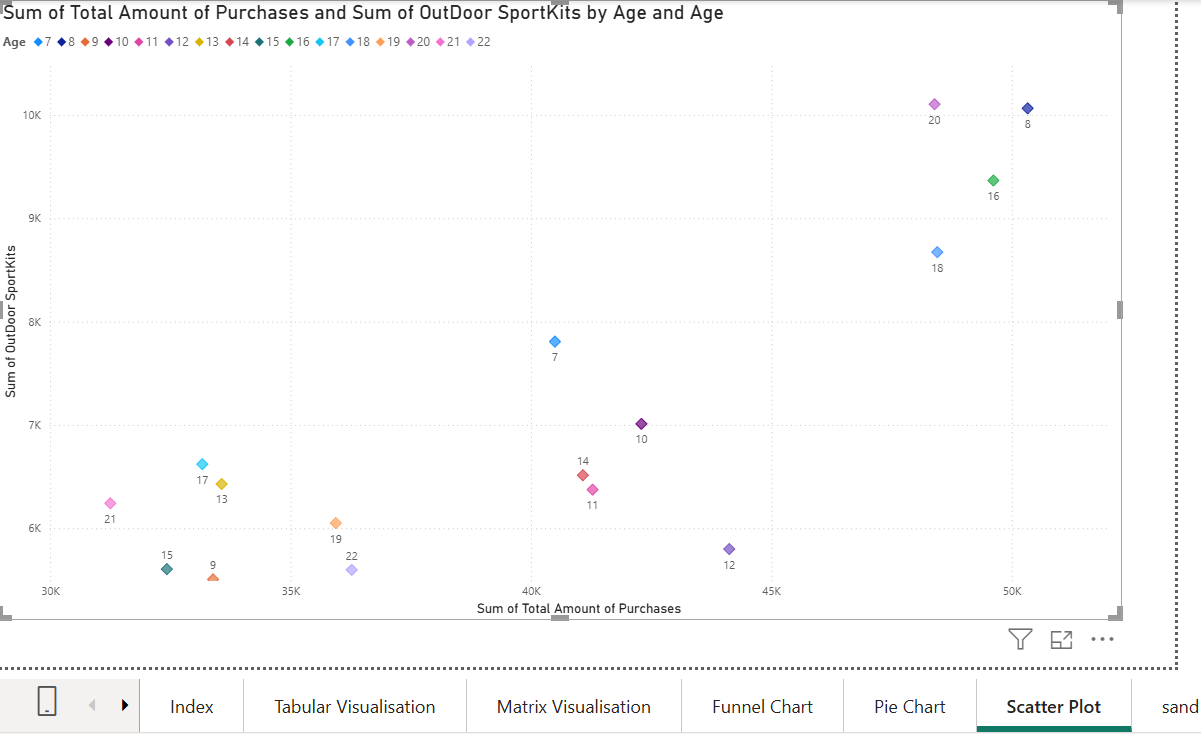

The dashboard page shown, as its layout file describes it:
{"tool":"powerbi","page":{"name":"Scatter Plot","canvas":[1280,720],"ordinal":5},"visuals":[{"type":"scatterChart","fields":{"Category":["Student Survey.Age"],"X":["Sum(Student Survey.Total Amount of Purchases)"],"Y":["Sum(Student Survey.OutDoor SportKits)"],"Series":["Student Survey.Age"]},"box":[9.7,0,1212.8,668.7],"z":0}]}

Visuals, with their boxes on the page's 1280x720 design canvas (x1, y1, x2, y2). These are canvas units, not pixel positions in the 1201x734 screenshot, which may show the page scaled, cropped or inside an application window:
scatterChart - Student Survey.Age x Sum(Student Survey.Total Amount of Purchases): 10, 0, 1222, 669
